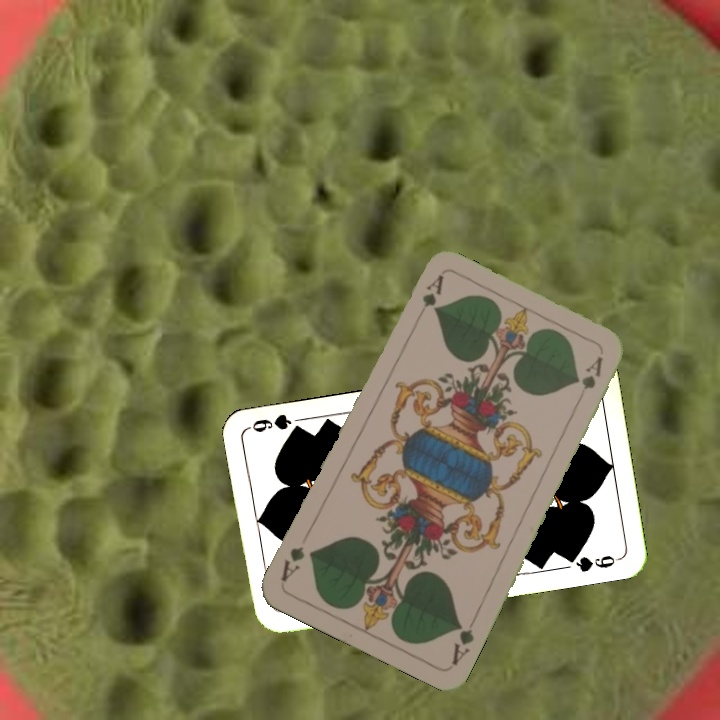GA: (410, 271, 446, 326), (447, 619, 477, 668)
